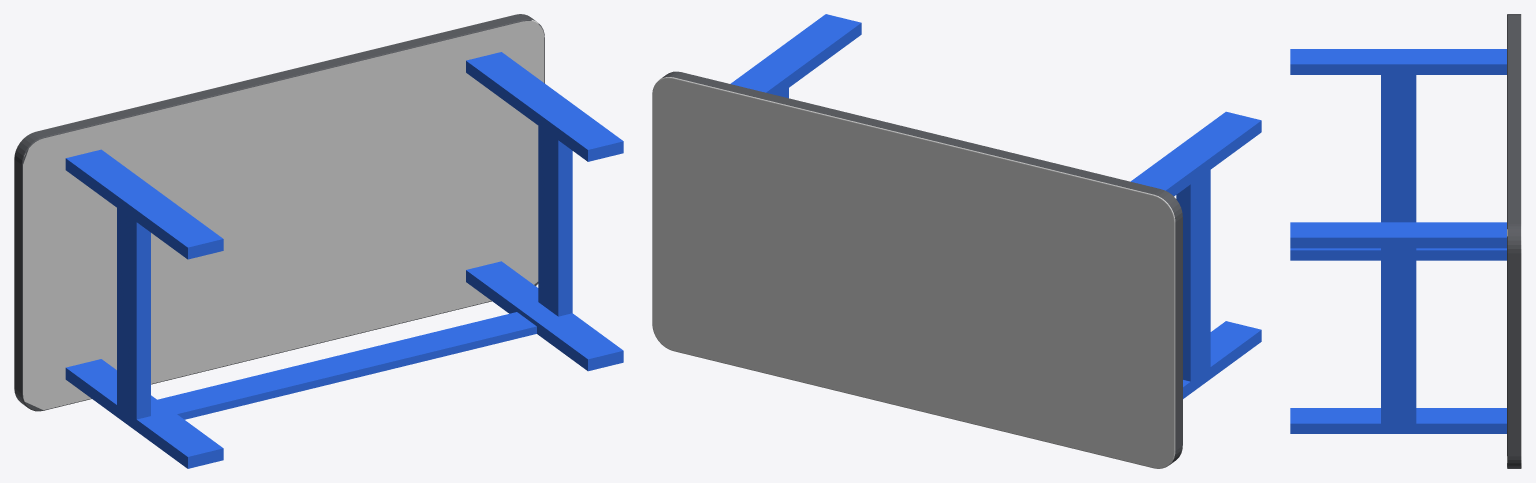
File: table_link.DAE
3 views of the same model, side by side, from view 1: azimuth 30°, elevation 25°; view 2: azimuth 150°, elevation 25°; view 3: azimuth 270°, elevation 25° (orthographic). The views are drawn at different scales.
Visible parts, largest first — view 1: base_link; view 2: base_link; view 3: base_link.
Boxes of the visible parts, x1,y1,x2,y2 form: base_link: (14, 14, 623, 468); base_link: (652, 14, 1261, 468); base_link: (1290, 14, 1521, 468).
Size of the model in its own units: 1.83 by 0.79 by 0.915.
